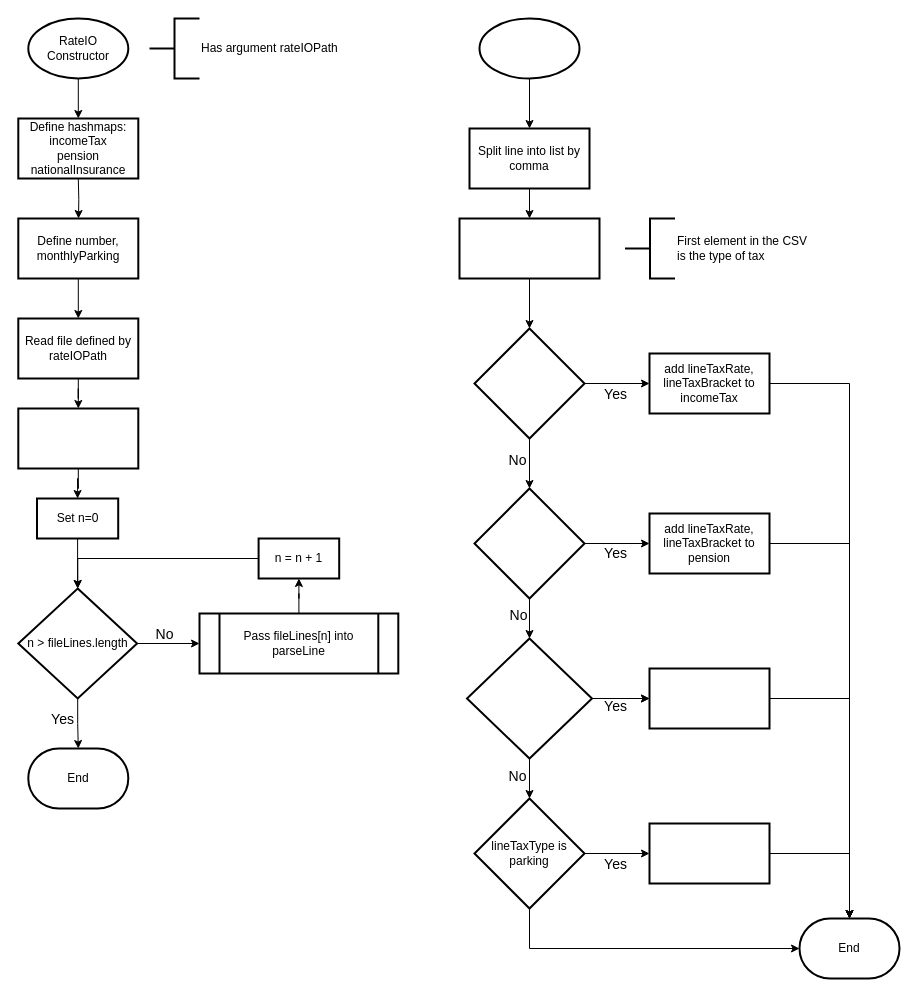
The diagram is 918 pixels wide and 996 high, and some of its shapes have lost their labels. Here are the shapes that lost their labels. From the top down, the centre of each, then its label:
At (x=529, y=48): "RateIO parseLine".
At (x=529, y=248): "Set lineTaxType = list[0]".
At (x=529, y=383): "lineTaxType is incomeTax".
At (x=78, y=438): "Read all file lines into list, fileLines".
At (x=529, y=543): "lineTaxType is pension".
At (x=529, y=698): "lineTaxType is nationalInsurnace".
At (x=709, y=698): "add lineTaxRate, lineTaxBracket to nationalInsurance".
At (x=709, y=853): "add lineTaxRate, lineTaxBracket to monthlyParking".
